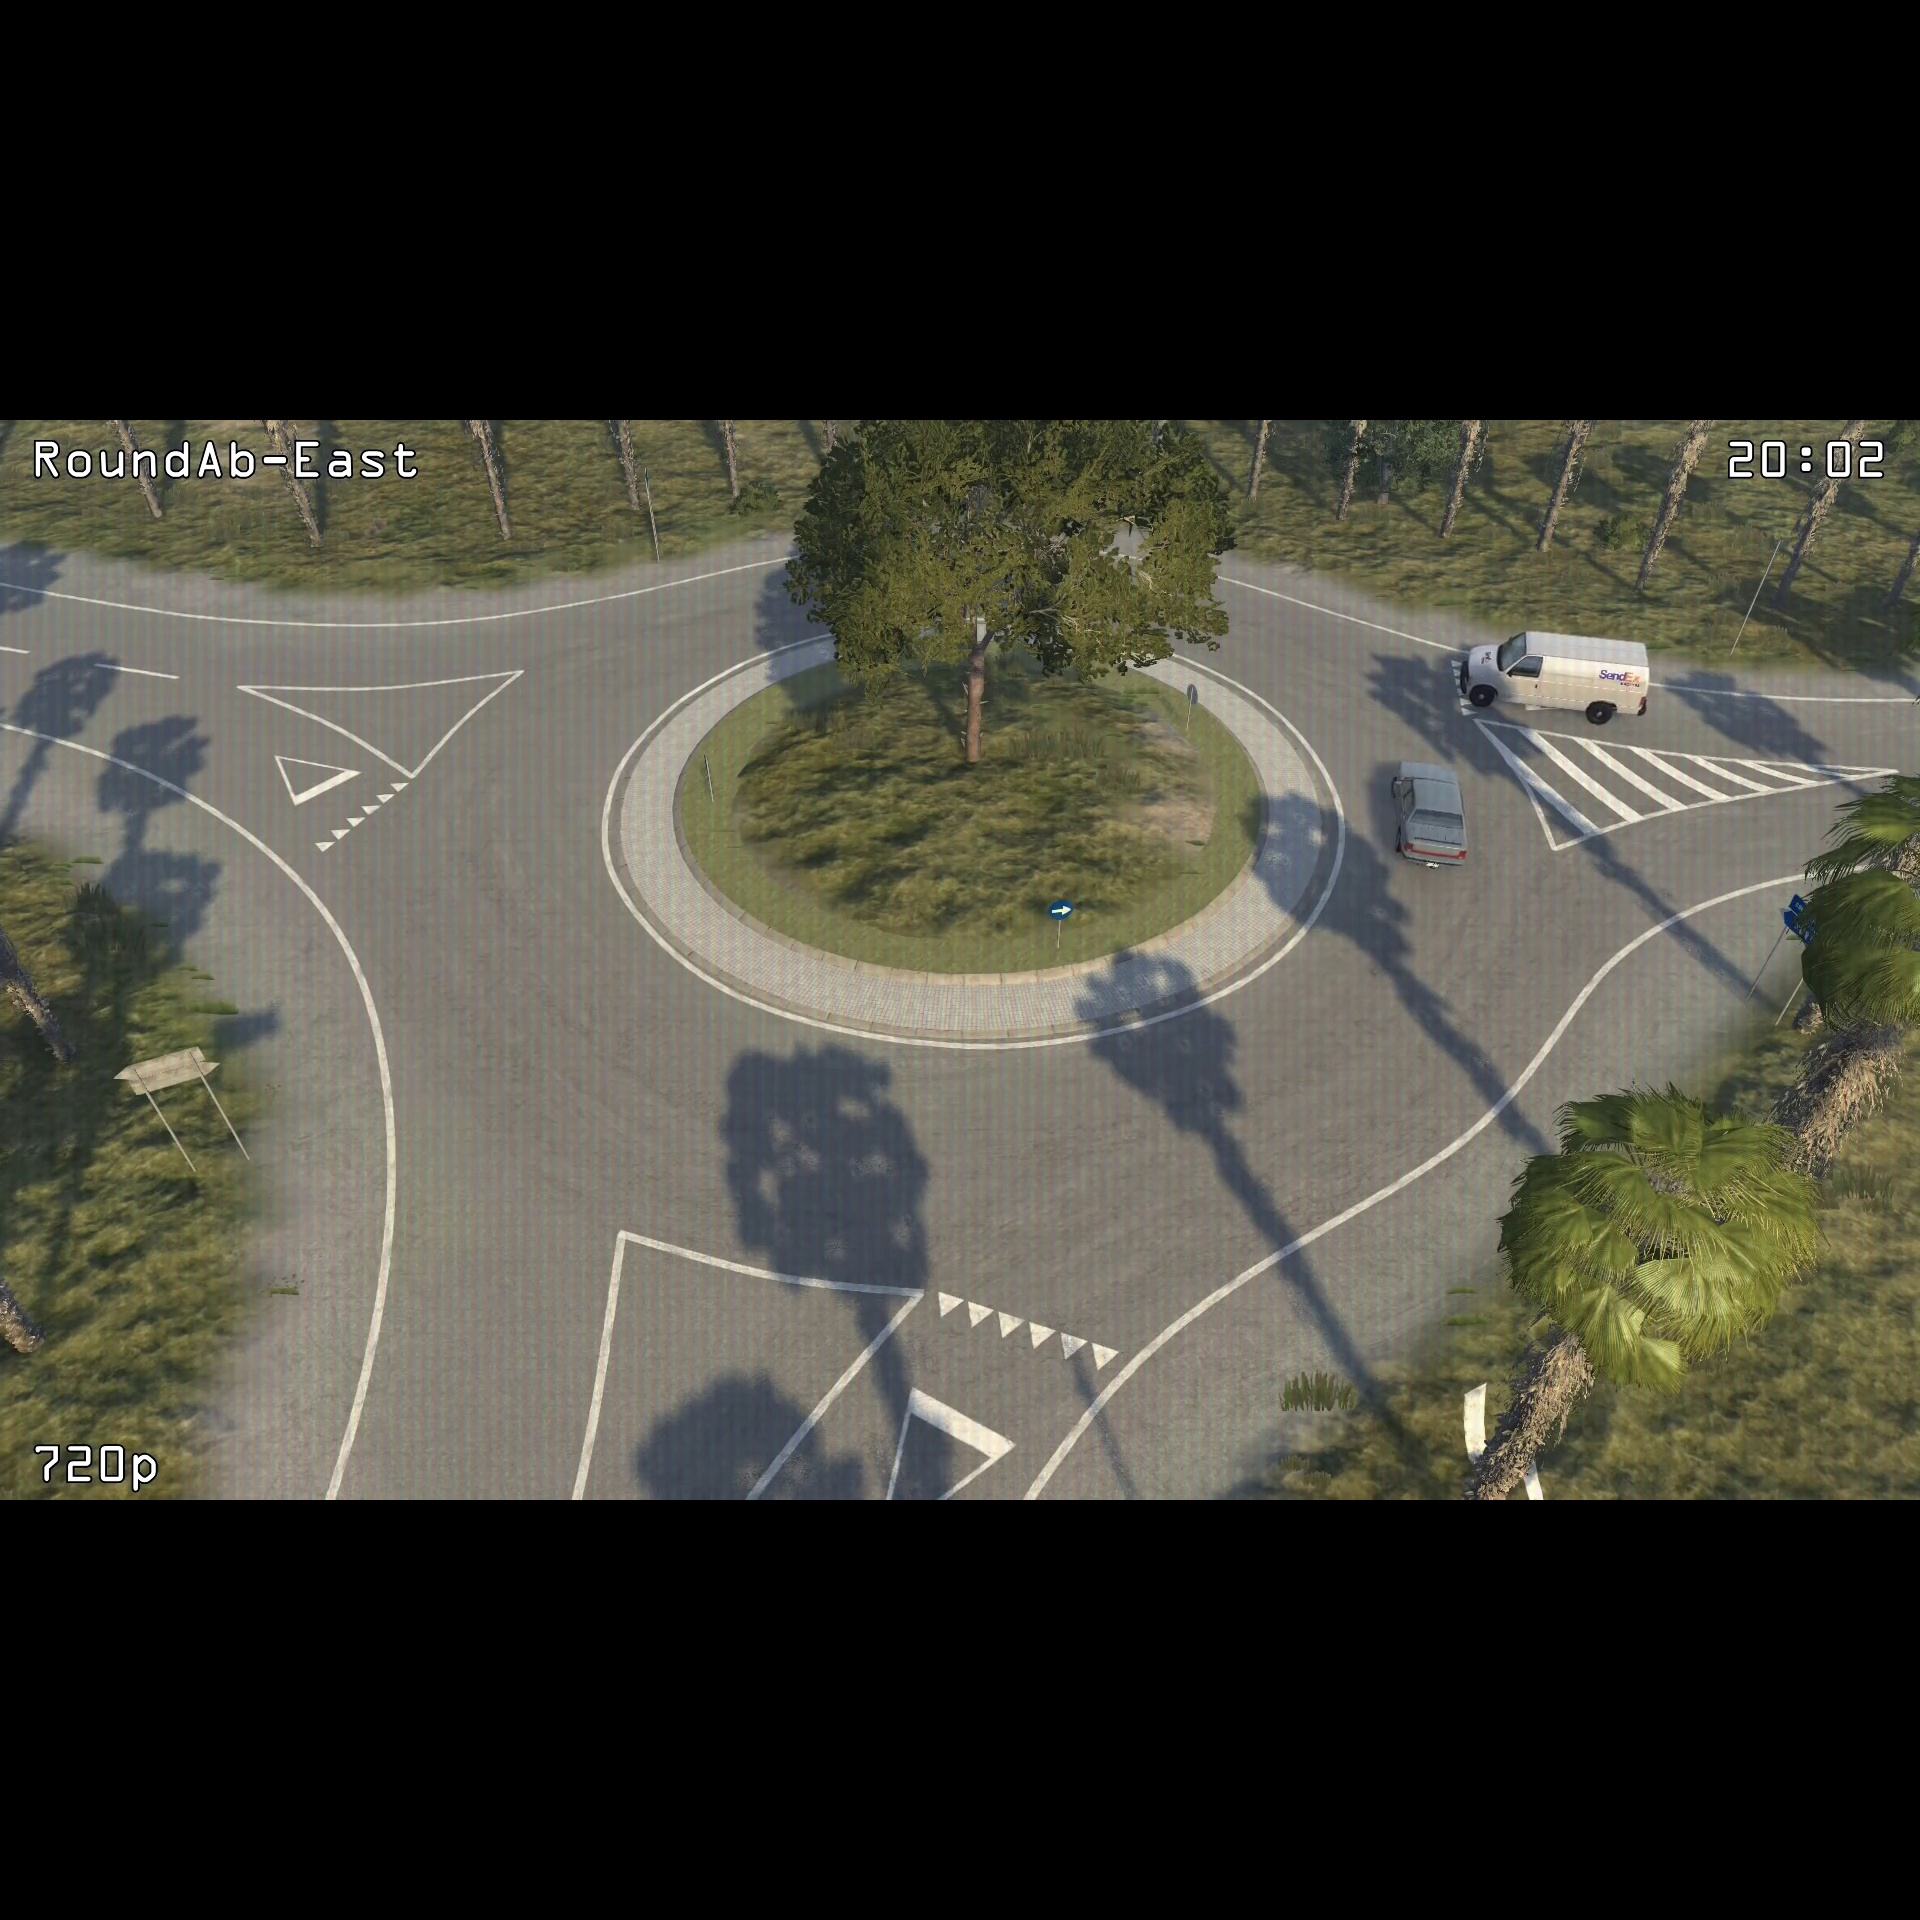vehicle: (1452, 624, 1655, 733), (1387, 751, 1475, 876)
